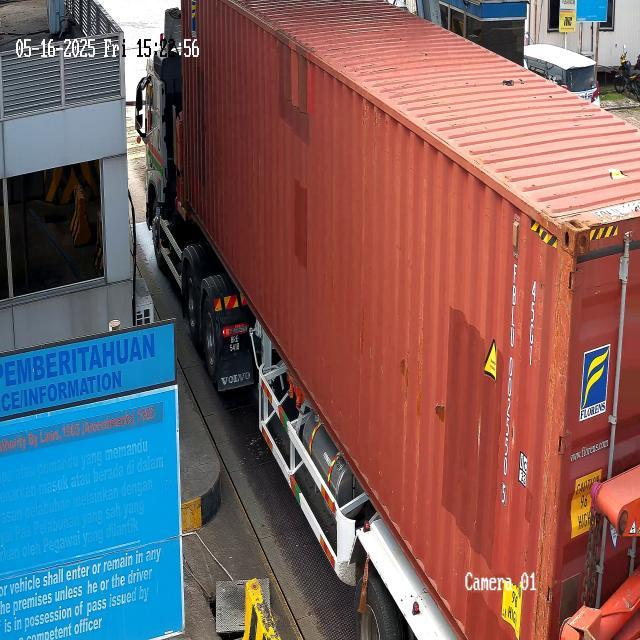ISO: (524, 276, 542, 365)
container_number: (493, 253, 523, 510)
